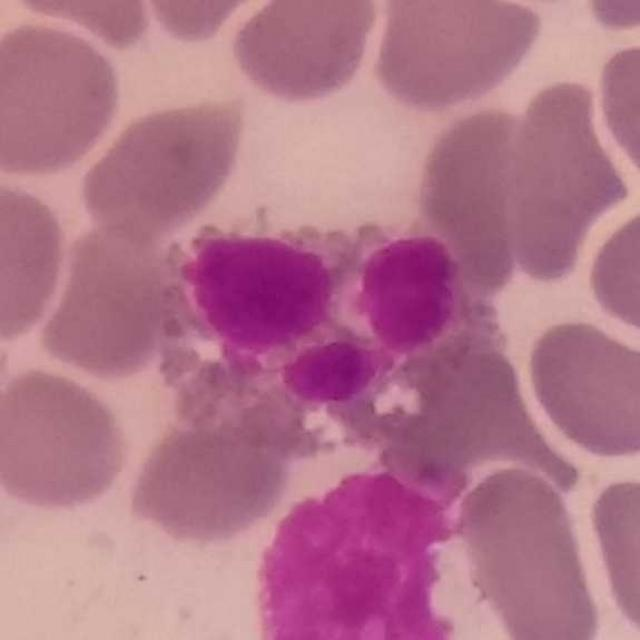Eosinophil: (148, 213, 509, 461), (241, 458, 474, 640)
RBC: (450, 461, 608, 639), (119, 404, 298, 548), (75, 94, 248, 238), (500, 73, 633, 260), (412, 98, 554, 251), (0, 15, 126, 182), (0, 363, 134, 515), (368, 0, 546, 114), (522, 314, 640, 463), (226, 0, 384, 108), (0, 173, 71, 347), (584, 469, 639, 640), (582, 197, 640, 345), (124, 0, 290, 47), (1, 0, 156, 50), (592, 36, 640, 197), (575, 0, 640, 38)
